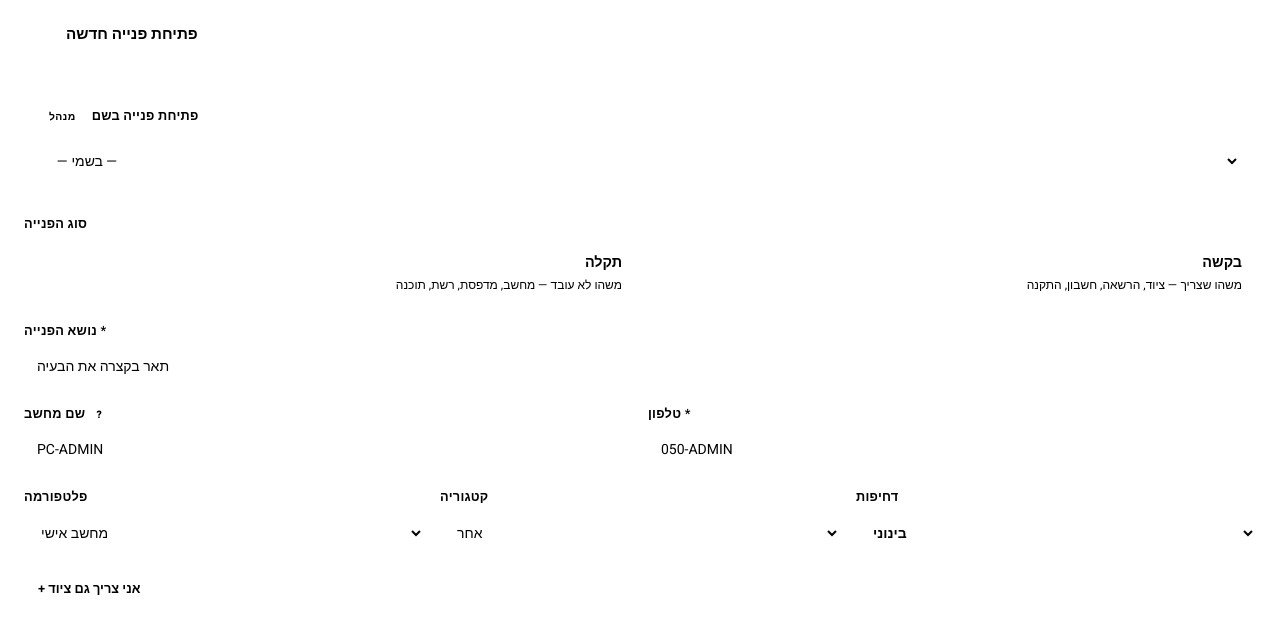
TicketForm › open in someone else's name (admin) › restores the admin's own details when the picker goes back to בשמי
Select "דנה כהן — dana@cristalino.co.il" in the dropdown labelled "פתיחת פנייה בשם" at (640, 161), box x1=40 y1=140 x2=1240 y2=183
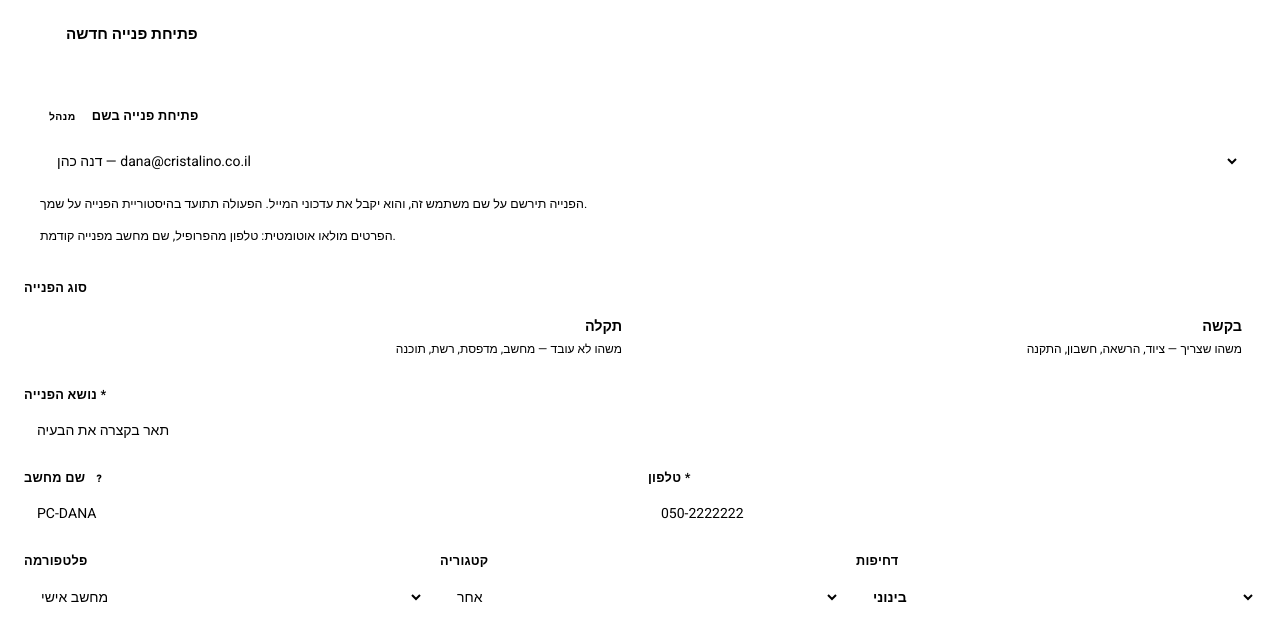
Select "— בשמי —" in the dropdown labelled "פתיחת פנייה בשם" at (640, 161), box x1=40 y1=140 x2=1240 y2=183
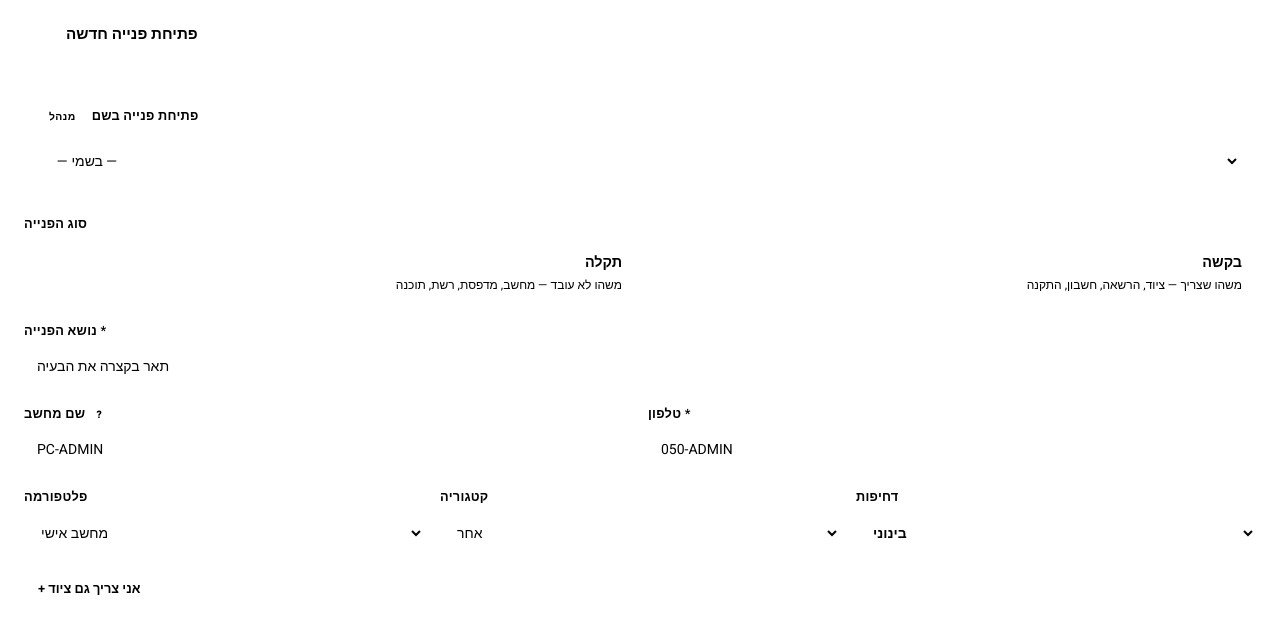
Expected: the field with placeholder "050-0000000" holds "050-ADMIN", x1=648 y1=429 x2=1256 y2=470
Expected: the field with id "computer-input" holds "PC-ADMIN", x1=24 y1=429 x2=632 y2=470
Expected: the text "מולאו אוטומטית" is gone
